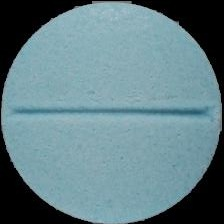53808-0478: (0, 0, 224, 224)
